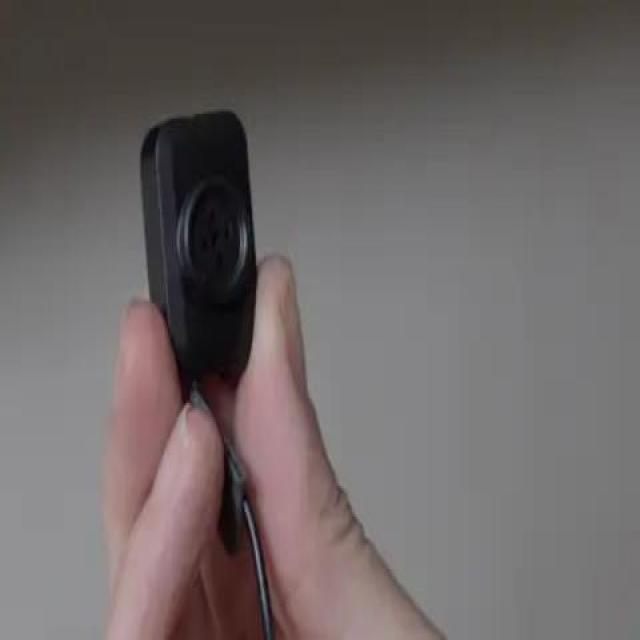hidden camera: (211, 232, 222, 247)
